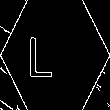L_N: (42, 30, 68, 80)
